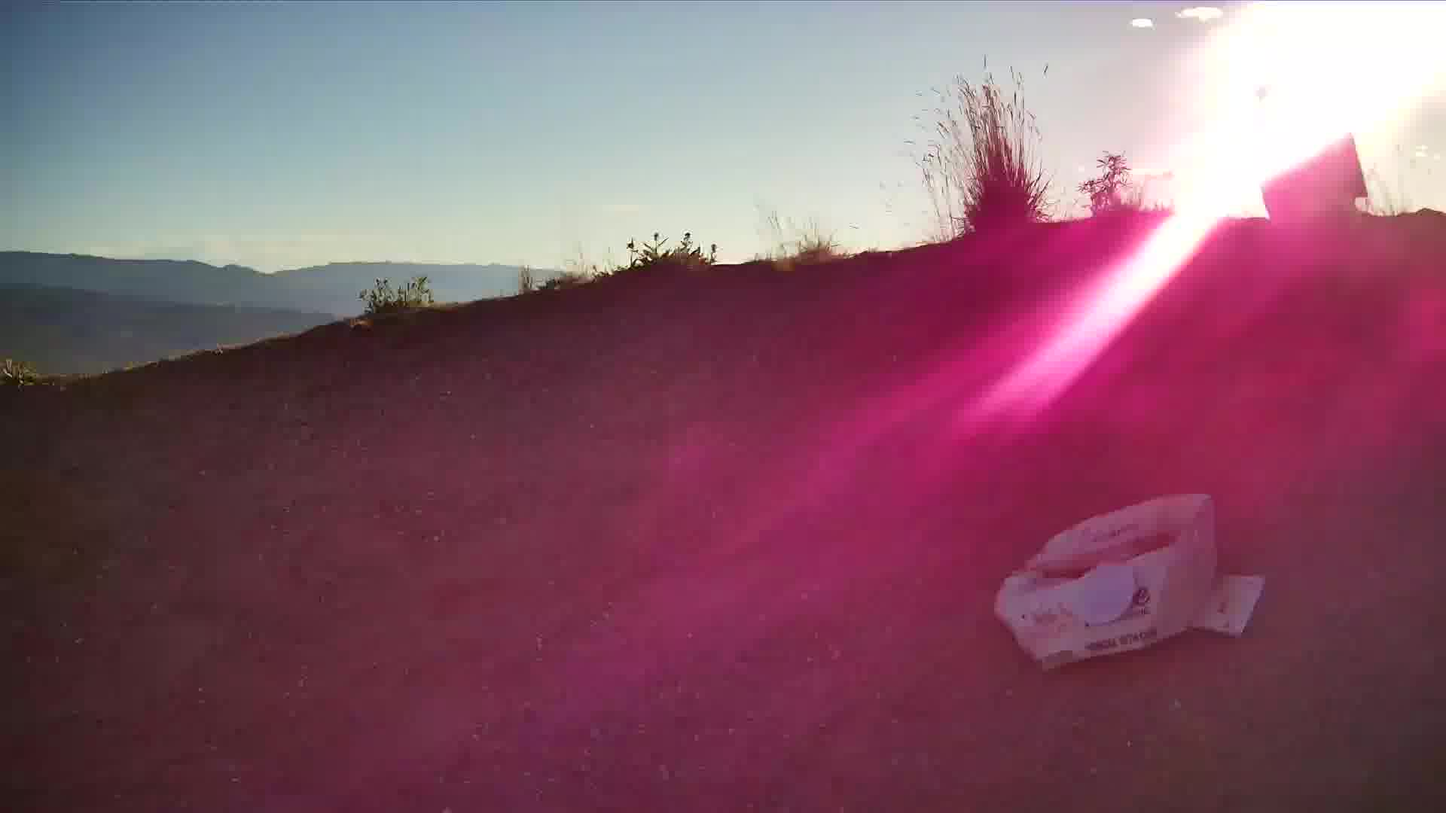Target: (1075, 559, 1133, 626)
